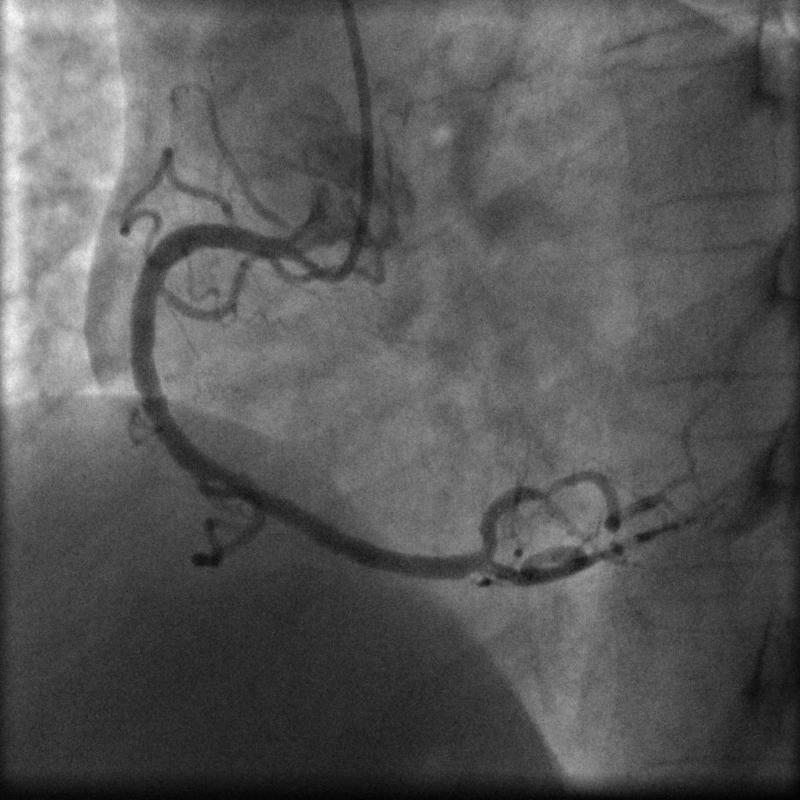Stenosis: (524, 474, 572, 500)
